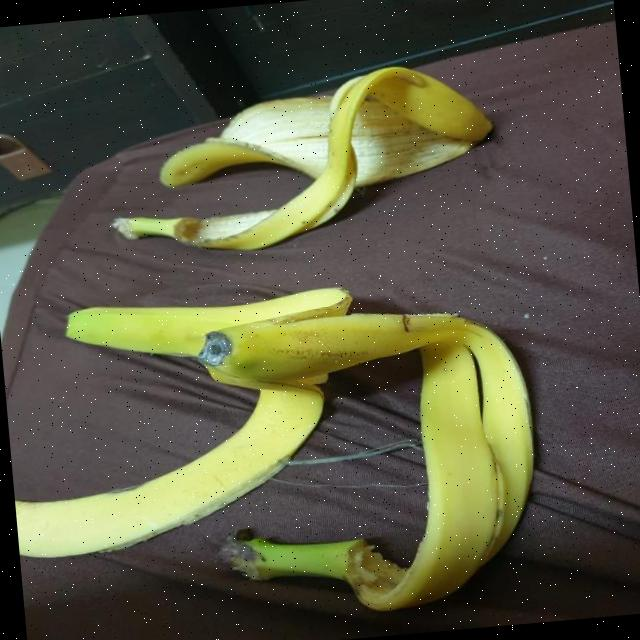banana-peel: (0, 267, 548, 640), (97, 55, 502, 262)
